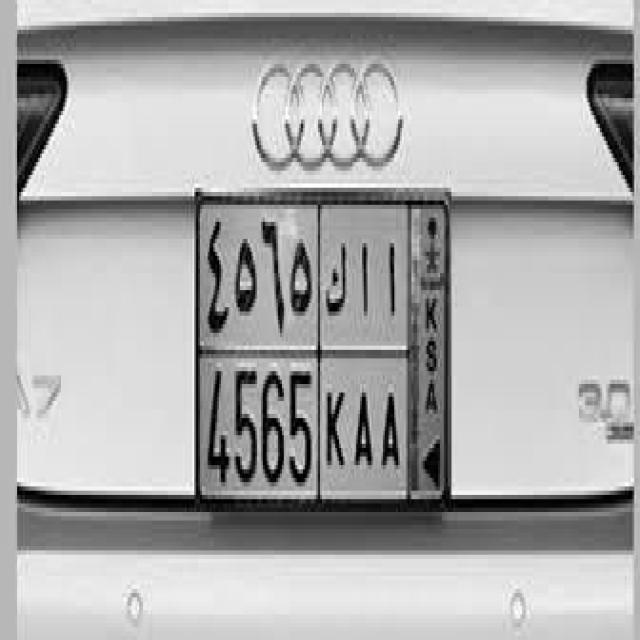license_plate: (166, 141, 459, 542)
